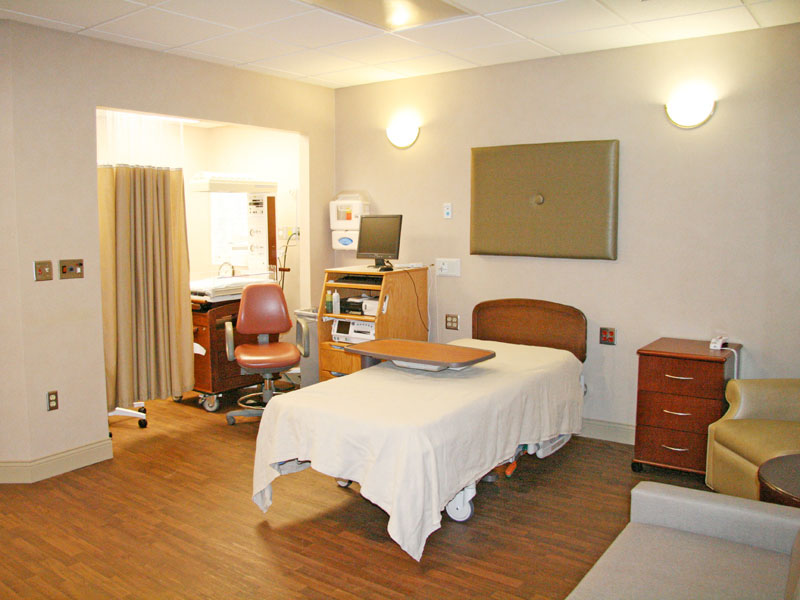bedside table: (354, 338, 512, 377)
hospital bed: (224, 313, 593, 475)
